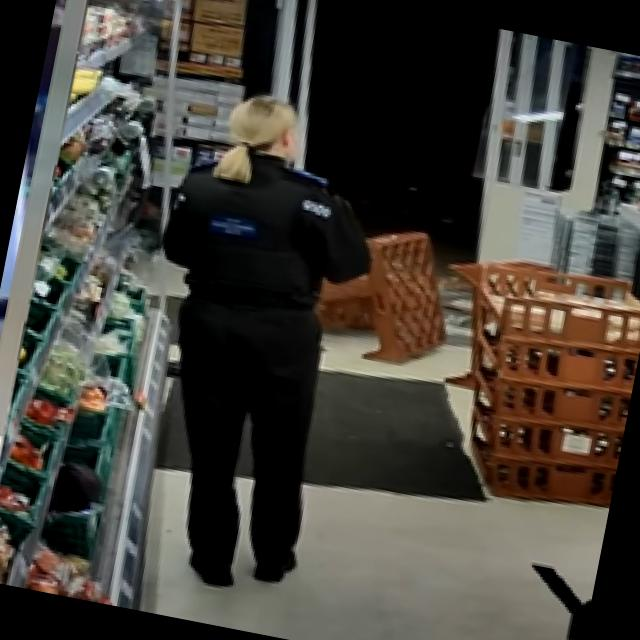person: (99, 81, 402, 605)
